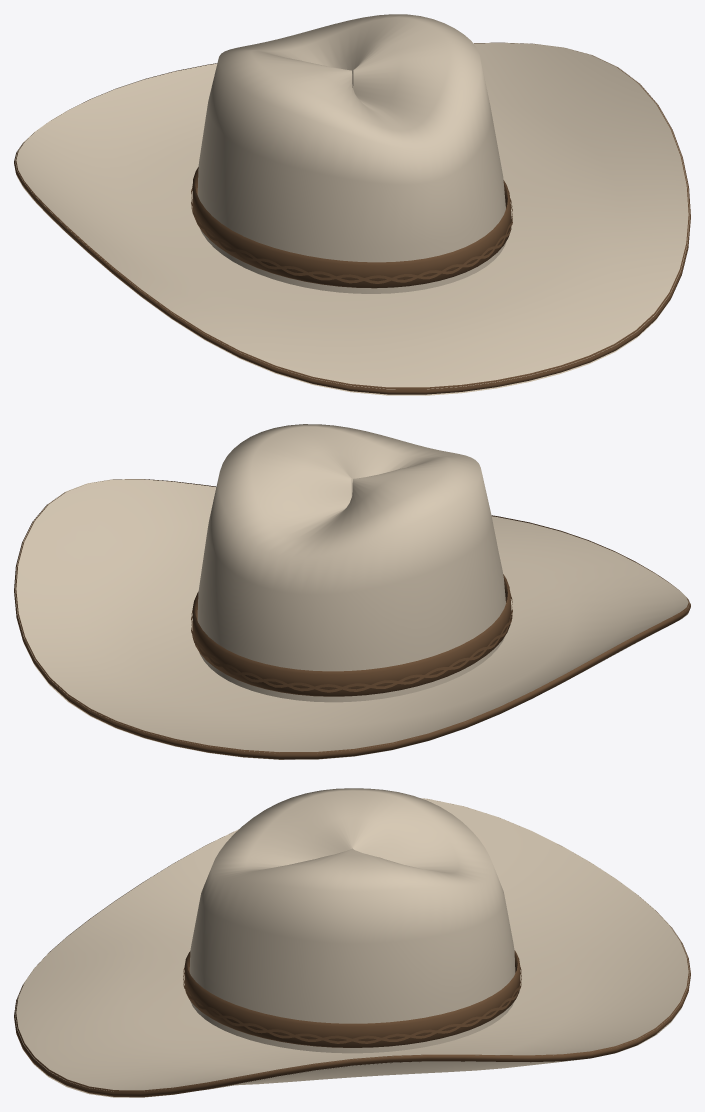
File: range-hat.glb
3 views of the same model, one above another, from view 1: azimuth 30°, elevation 25°; view 2: azimuth 150°, elevation 25°; view 3: azimuth 270°, elevation 25° (orthographic). The views are drawn at different scales.
Visible parts, largest first — view 1: Felt upper brim, Felt crown, Fitted hatband, Bound brim edge, Braided cord, Braided cord.001, Felt under brim; view 2: Felt upper brim, Felt crown, Fitted hatband, Bound brim edge, Braided cord, Braided cord.001, Felt under brim; view 3: Felt upper brim, Felt crown, Fitted hatband, Bound brim edge, Felt under brim, Braided cord, Braided cord.001.
Part boxes in pixels (bbox=[...]): Felt upper brim: bbox=[15, 42, 689, 389]; Felt crown: bbox=[197, 14, 506, 293]; Fitted hatband: bbox=[192, 167, 511, 288]; Bound brim edge: bbox=[14, 42, 690, 394]; Braided cord: bbox=[191, 188, 512, 283]; Braided cord.001: bbox=[191, 186, 512, 283]; Felt under brim: bbox=[17, 176, 670, 395]; Felt upper brim: bbox=[15, 479, 689, 752]; Felt crown: bbox=[197, 424, 505, 702]; Fitted hatband: bbox=[192, 574, 511, 696]; Bound brim edge: bbox=[14, 479, 690, 759]; Braided cord: bbox=[191, 591, 512, 692]; Braided cord.001: bbox=[191, 596, 512, 691]; Felt under brim: bbox=[24, 613, 688, 759]; Felt upper brim: bbox=[15, 798, 689, 1091]; Felt crown: bbox=[189, 788, 515, 1053]; Fitted hatband: bbox=[184, 950, 520, 1047]; Bound brim edge: bbox=[14, 836, 690, 1097]; Felt under brim: bbox=[23, 1007, 681, 1097]; Braided cord: bbox=[183, 967, 521, 1043]; Braided cord.001: bbox=[183, 967, 521, 1043].
Bounding box in the file's own units: 0.3772 × 0.1263 × 0.4052.
